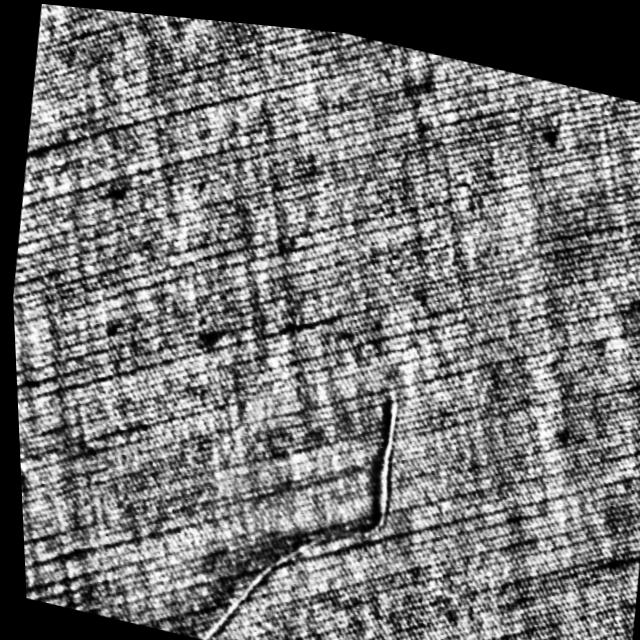Stitch: (162, 338, 417, 640)
